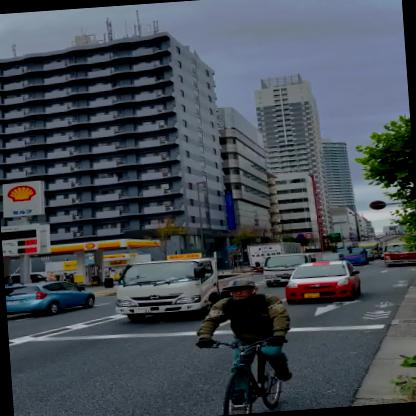bus: (384, 242, 415, 269), (340, 248, 370, 267)
car: (283, 258, 362, 306), (5, 279, 99, 319)
motorcycle: (192, 275, 300, 415)
truck: (112, 254, 252, 325), (262, 252, 322, 286)
